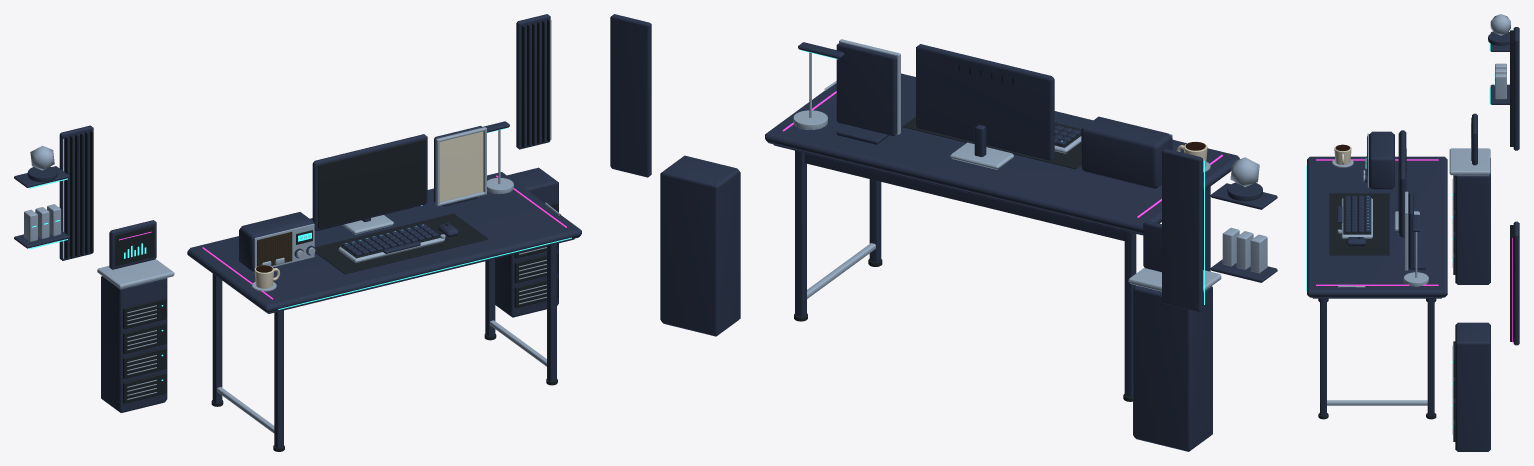
Rendered from desk-neon-mobile.glb.
The picture shows the model from 3 angles, left to right: view 1: azimuth 30°, elevation 25°; view 2: azimuth 150°, elevation 25°; view 3: azimuth 270°, elevation 25°; orthographic projection. The views are drawn at different scales.
Parts seen in each view (by area): view 1: Scenery__finish, Desk__finish, Computer__finish, PhotoDisplay__finish, Radio__finish, NeonKey__finish, Lamp__finish, Accessories__finish; view 2: Scenery__finish, Desk__finish, Computer__finish, PhotoDisplay__finish, Radio__finish, Lamp__finish; view 3: Desk__finish, Scenery__finish, Radio__finish, NeonKey__finish, Computer__finish, PhotoDisplay__finish, Lamp__finish, Accessories__finish.
Boxes of the visible parts, bbox=[...] form: Scenery__finish: bbox=[14, 14, 558, 412]; Desk__finish: bbox=[187, 172, 581, 451]; Computer__finish: bbox=[312, 134, 427, 234]; PhotoDisplay__finish: bbox=[433, 126, 486, 206]; Radio__finish: bbox=[239, 212, 315, 271]; NeonKey__finish: bbox=[338, 223, 458, 262]; Lamp__finish: bbox=[483, 121, 513, 193]; Accessories__finish: bbox=[252, 202, 562, 291]; Scenery__finish: bbox=[610, 14, 1277, 451]; Desk__finish: bbox=[765, 73, 1239, 401]; Computer__finish: bbox=[916, 44, 1054, 169]; PhotoDisplay__finish: bbox=[836, 39, 900, 144]; Radio__finish: bbox=[1081, 116, 1172, 189]; Lamp__finish: bbox=[793, 42, 844, 129]; Desk__finish: bbox=[1306, 156, 1447, 419]; Scenery__finish: bbox=[1449, 14, 1519, 451]; Radio__finish: bbox=[1363, 131, 1394, 189]; NeonKey__finish: bbox=[1337, 195, 1372, 246]; Computer__finish: bbox=[1394, 130, 1419, 237]; PhotoDisplay__finish: bbox=[1404, 191, 1425, 270]; Lamp__finish: bbox=[1403, 214, 1428, 286]; Accessories__finish: bbox=[1332, 144, 1365, 287].
Size of the model in its own units: 18.12 by 8.46 by 7.12.
Materials: 8 (1 with a texture image).
